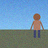person: (30, 14, 44, 38)
